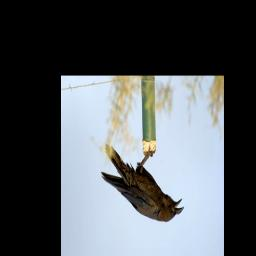Crow: (99, 144, 185, 226)
